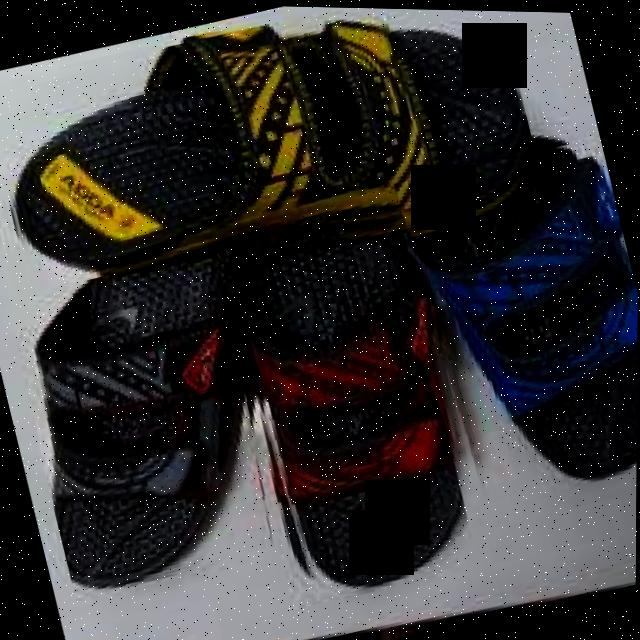shoe: (0, 0, 640, 640), (0, 0, 549, 333), (2, 245, 295, 606), (216, 218, 481, 608), (392, 130, 639, 513)
